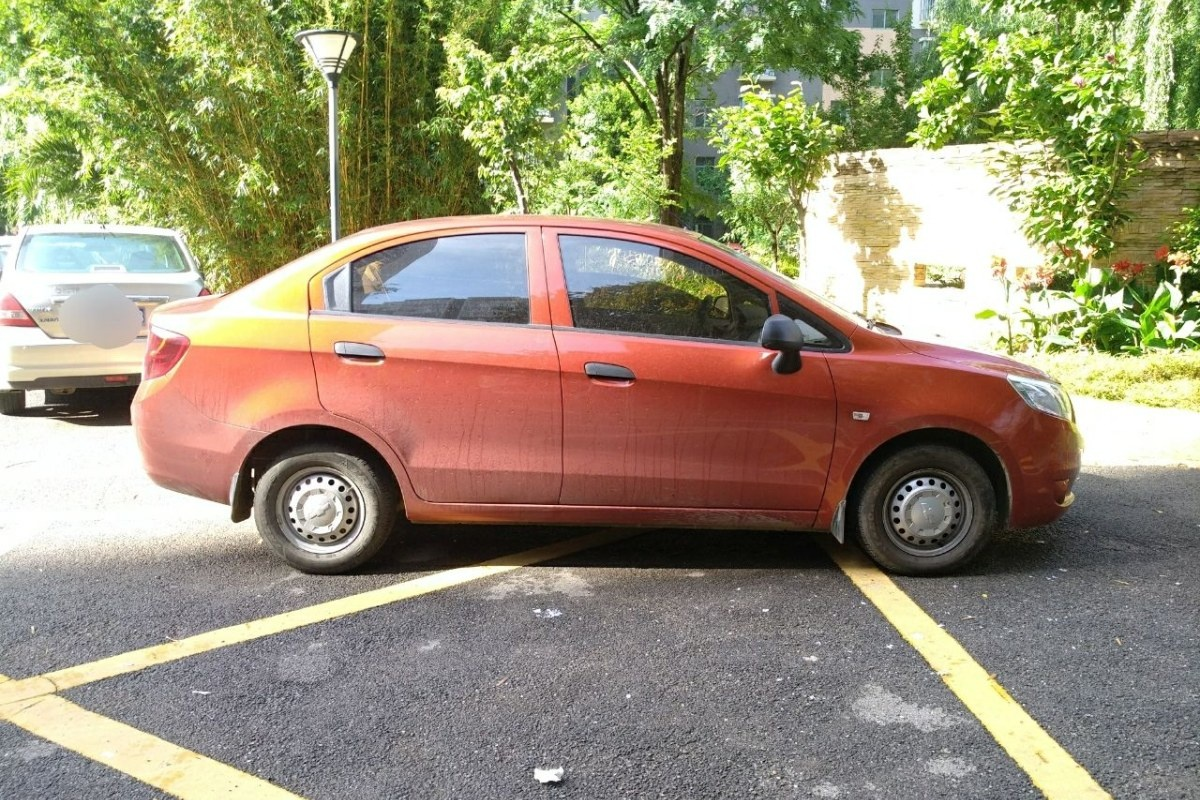family sedan: (161, 188, 1068, 605)
